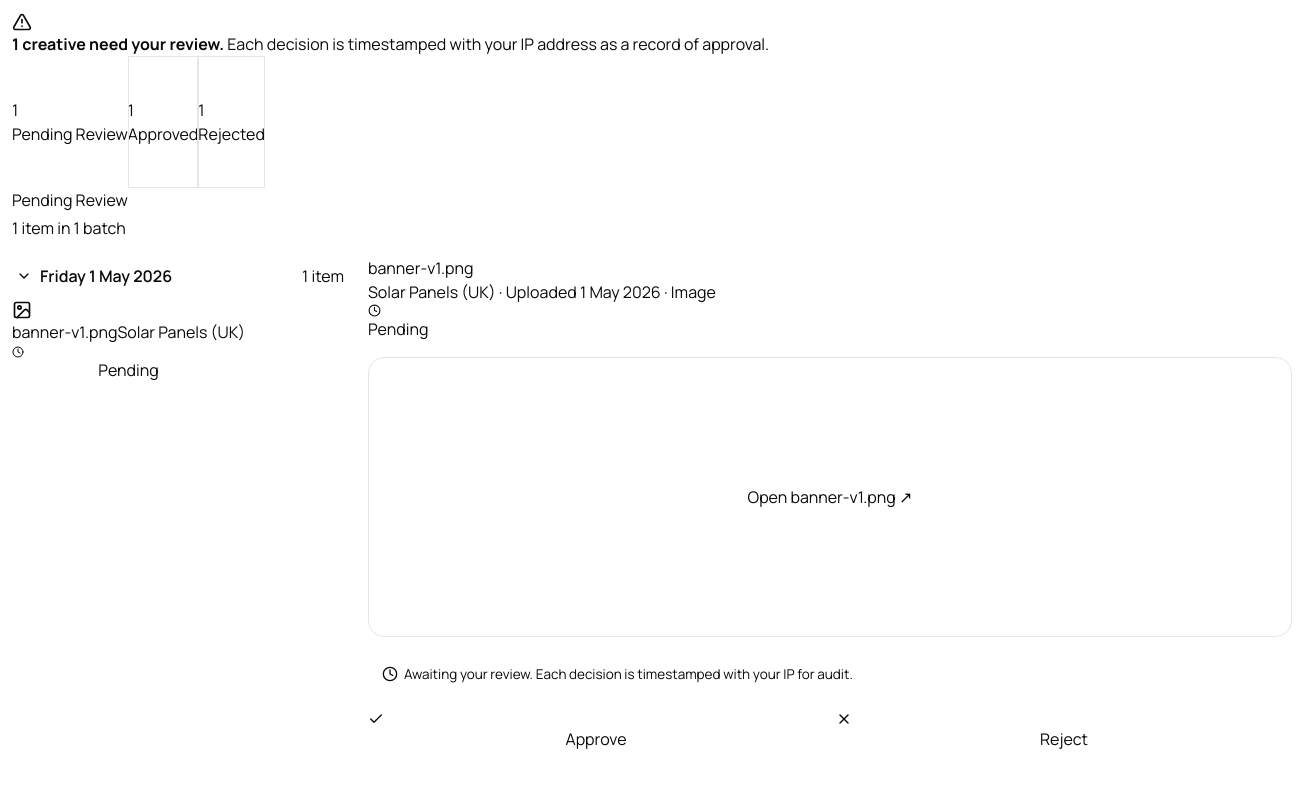
Test: PortalCompliancePage — asset approval › Rejected tab shows only rejected creatives
Check: the text "banner-v1.png" is shown, box left=12, top=321, right=117, bottom=343
Click the tab "1 Rejected" at (232, 122), box left=198, top=56, right=265, bottom=188
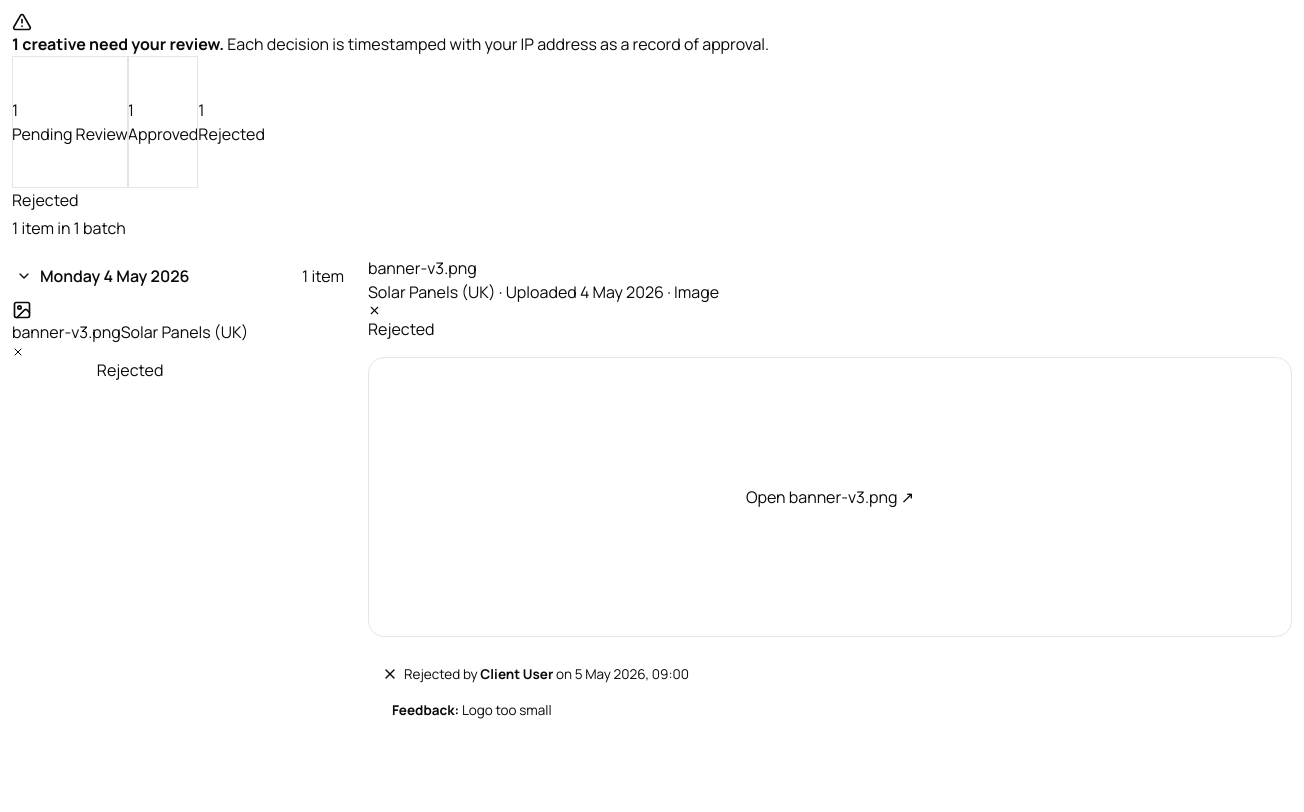
Check: the button "banner-v1.png" is gone
